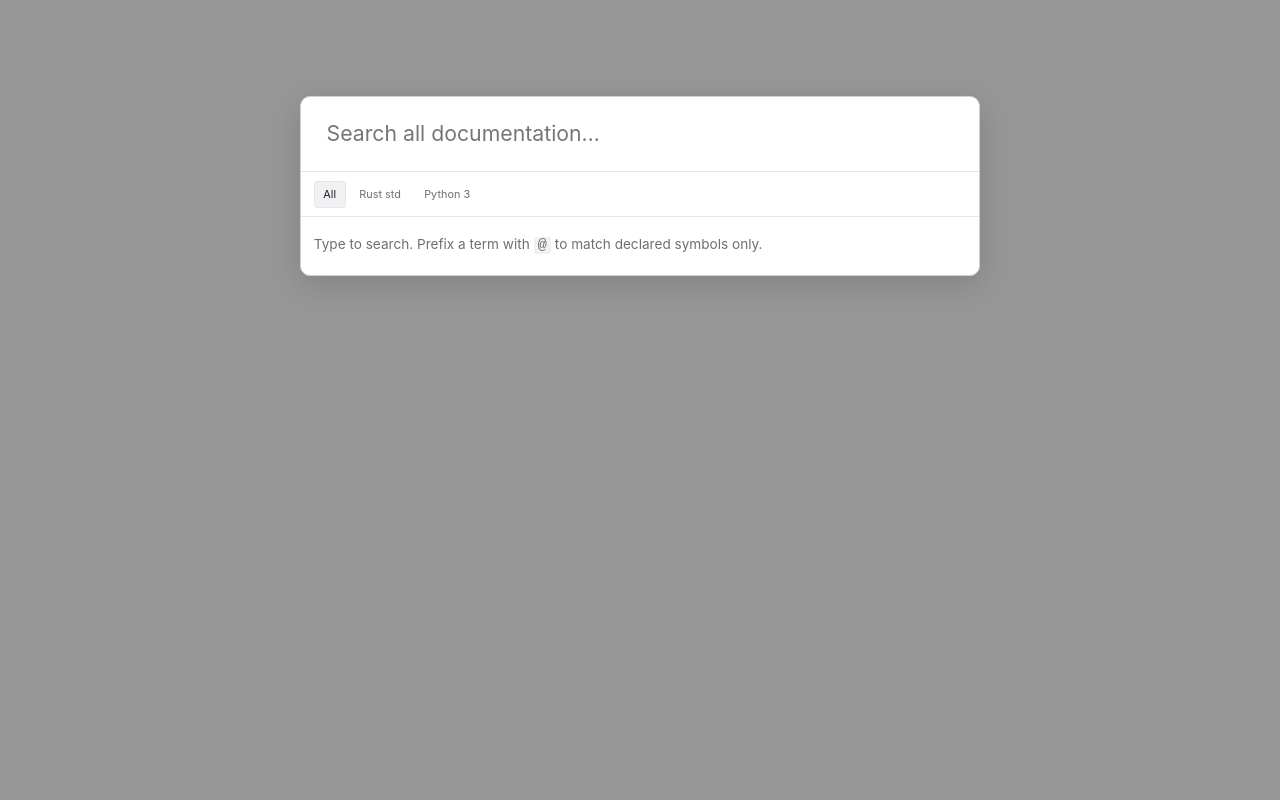
Test: SearchModal › shows results for a typed query
Type "vec" into the field named "Search query".
click(640, 134); type("vec")  # box [314,110,966,159]
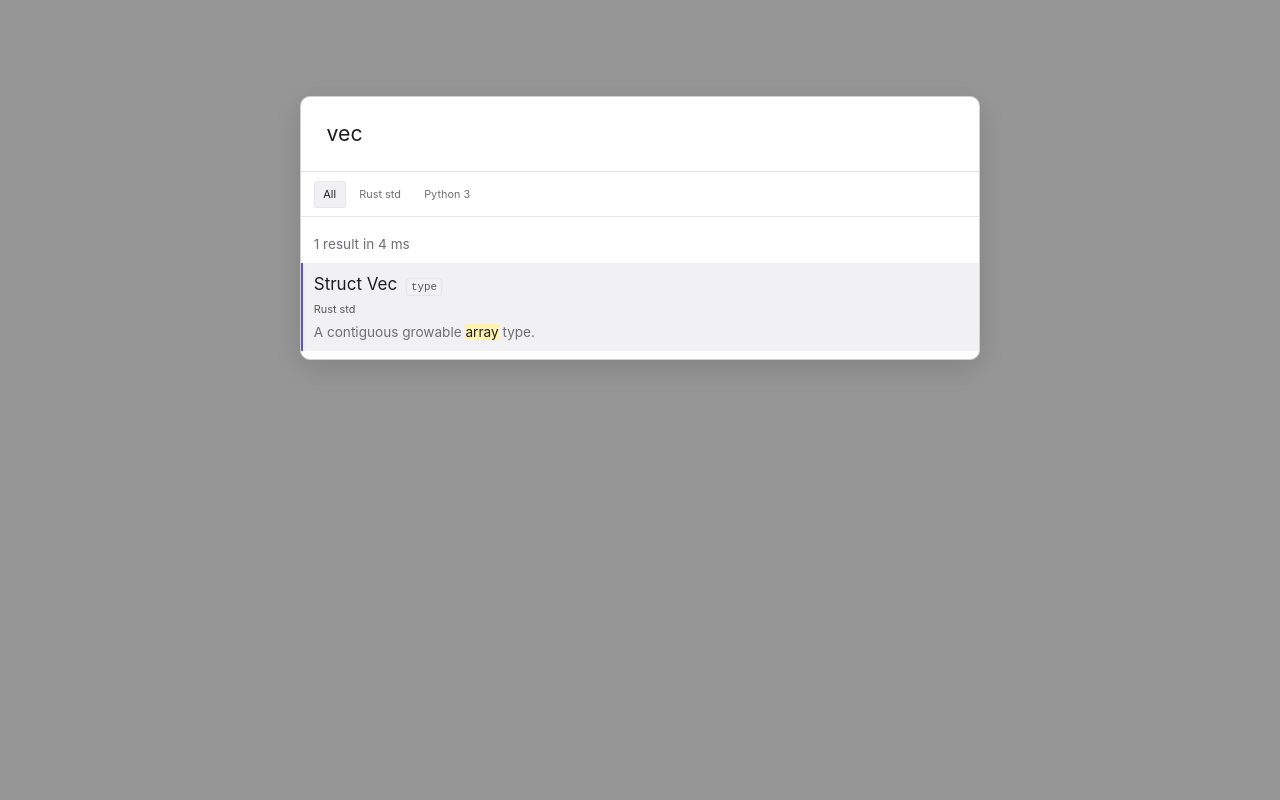
Expected: the text "Struct Vec" is shown, [314,274,397,294]
Expected: the option shows "Rust std", [301,263,979,351]
